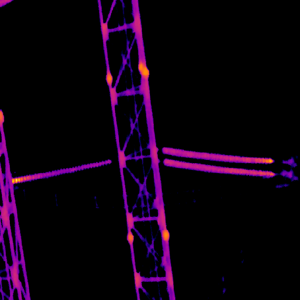insulator: (161, 145, 274, 178), (11, 158, 112, 183)
